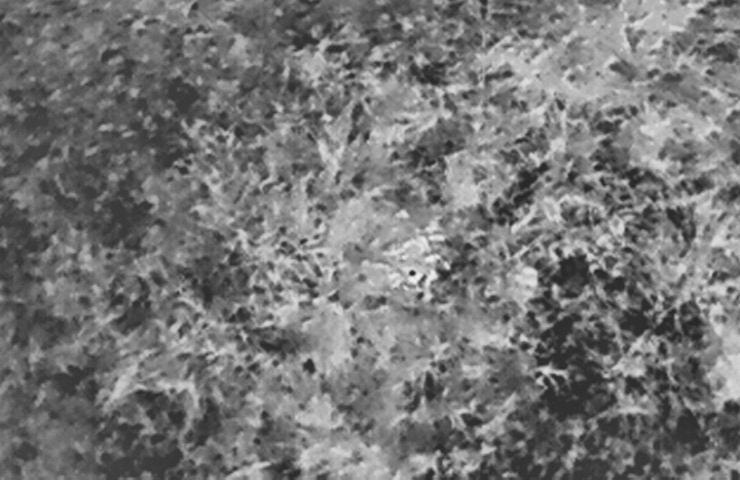landmines: (387, 227, 451, 295)
